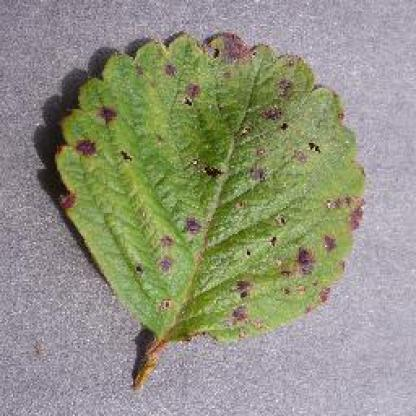leaf scorch: (32, 20, 380, 402)
